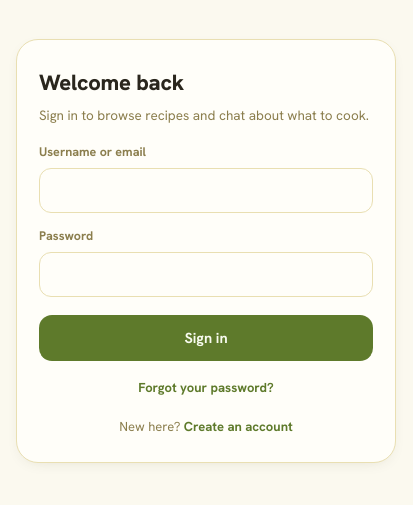
Test: LoginPage › blocks submission client-side when fields are empty
Click the button "Sign in" at (206,338), box left=39, top=315, right=373, bottom=361
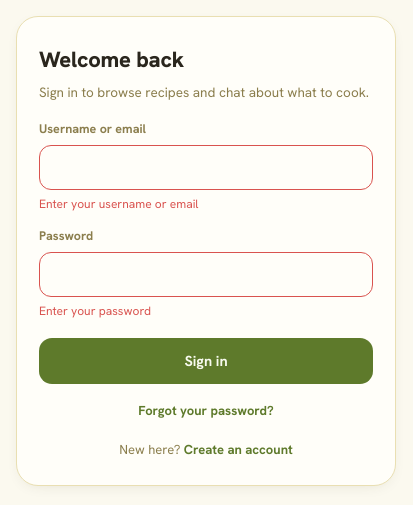
Expected: the text "Enter your username or email" is shown, left=39, top=196, right=198, bottom=212
